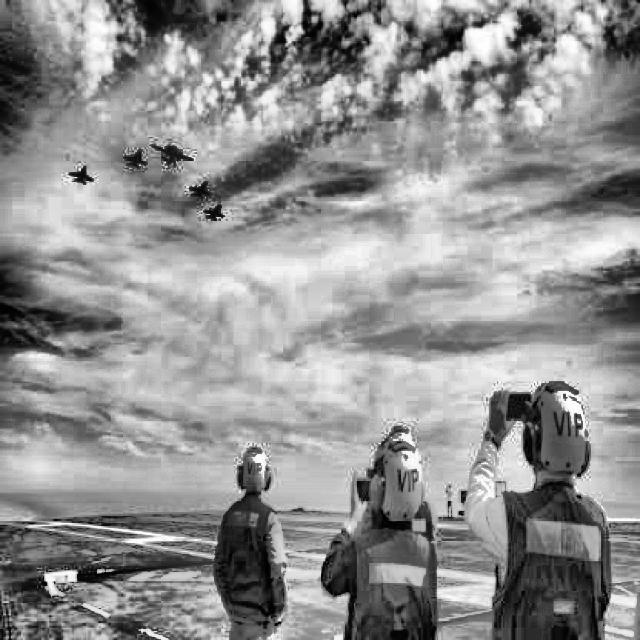E2: (152, 145, 192, 169)
F18: (69, 166, 94, 188), (123, 150, 148, 172), (189, 182, 211, 202), (203, 205, 225, 223)
